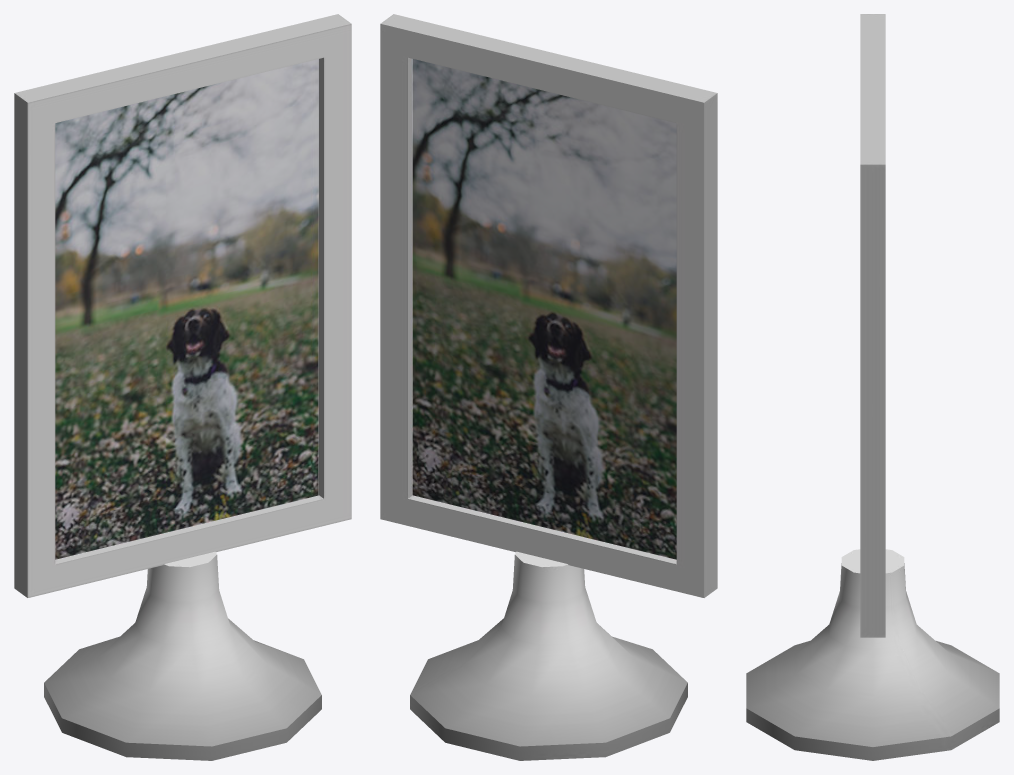
The model's file is bingkai meja.fbx.
3 renders of one model, left to right at view 1: azimuth 30°, elevation 25°; view 2: azimuth 150°, elevation 25°; view 3: azimuth 270°, elevation 25°, orthographic. The views are drawn at different scales.
Parts seen in each view (by area): view 1: bingkaimeja; view 2: bingkaimeja; view 3: bingkaimeja.
Part boxes in pixels (<box>): bingkaimeja: <box>14,14,351,760</box>; bingkaimeja: <box>380,14,717,760</box>; bingkaimeja: <box>746,14,999,760</box>.
Size of the model in its own units: 0.9996 by 1.9 by 0.71.
Materials: 1 (1 with a texture image).
